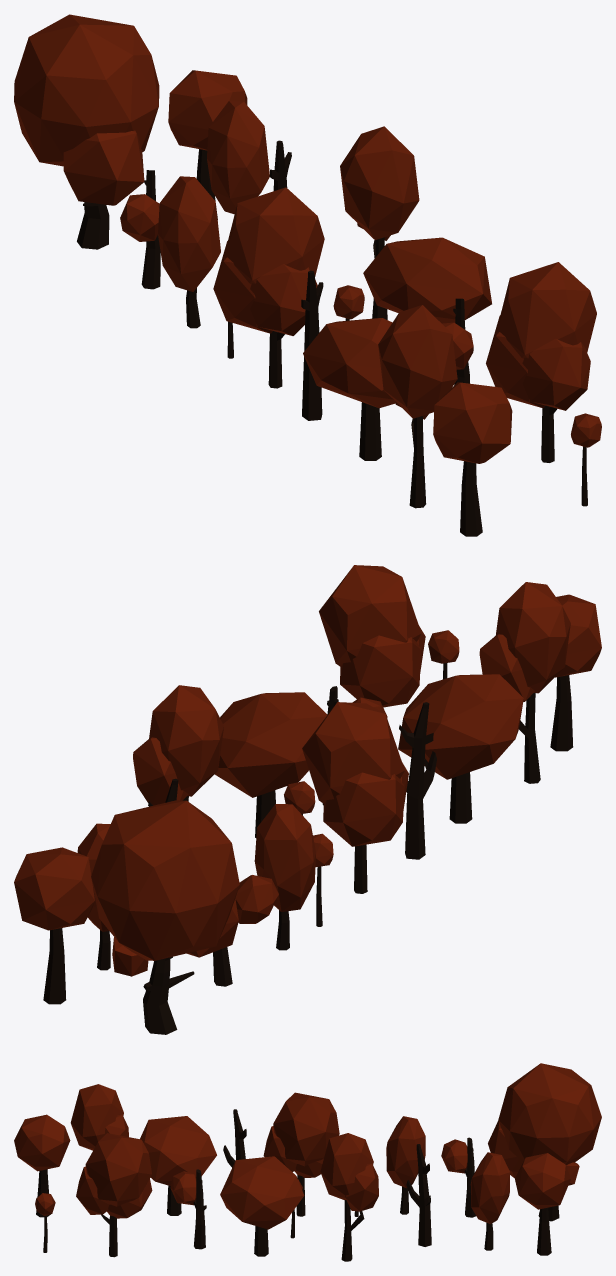
File: autumntree.obj
The picture shows the model from 3 angles, top to bottom: view 1: azimuth 30°, elevation 25°; view 2: azimuth 150°, elevation 25°; view 3: azimuth 270°, elevation 25°; orthographic projection. The views are drawn at different scales.
Visible parts, largest first — view 1: Icosphere_Icosphere.000, Cylinder.006_Cylinder.013; view 2: Icosphere_Icosphere.000, Cylinder.006_Cylinder.013; view 3: Icosphere_Icosphere.000, Cylinder.006_Cylinder.013.
Boxes of the visible parts, x1=… form: Icosphere_Icosphere.000: x1=14, y1=14, x2=601, y2=463; Cylinder.006_Cylinder.013: x1=77, y1=140, x2=587, y2=536; Icosphere_Icosphere.000: x1=14, y1=565, x2=601, y2=976; Cylinder.006_Cylinder.013: x1=43, y1=663, x2=573, y2=1034; Icosphere_Icosphere.000: x1=14, y1=1063, x2=601, y2=1229; Cylinder.006_Cylinder.013: x1=36, y1=1109, x2=559, y2=1261.
Bounding box in the file's own units: 19.17 × 17.8 × 63.23.
